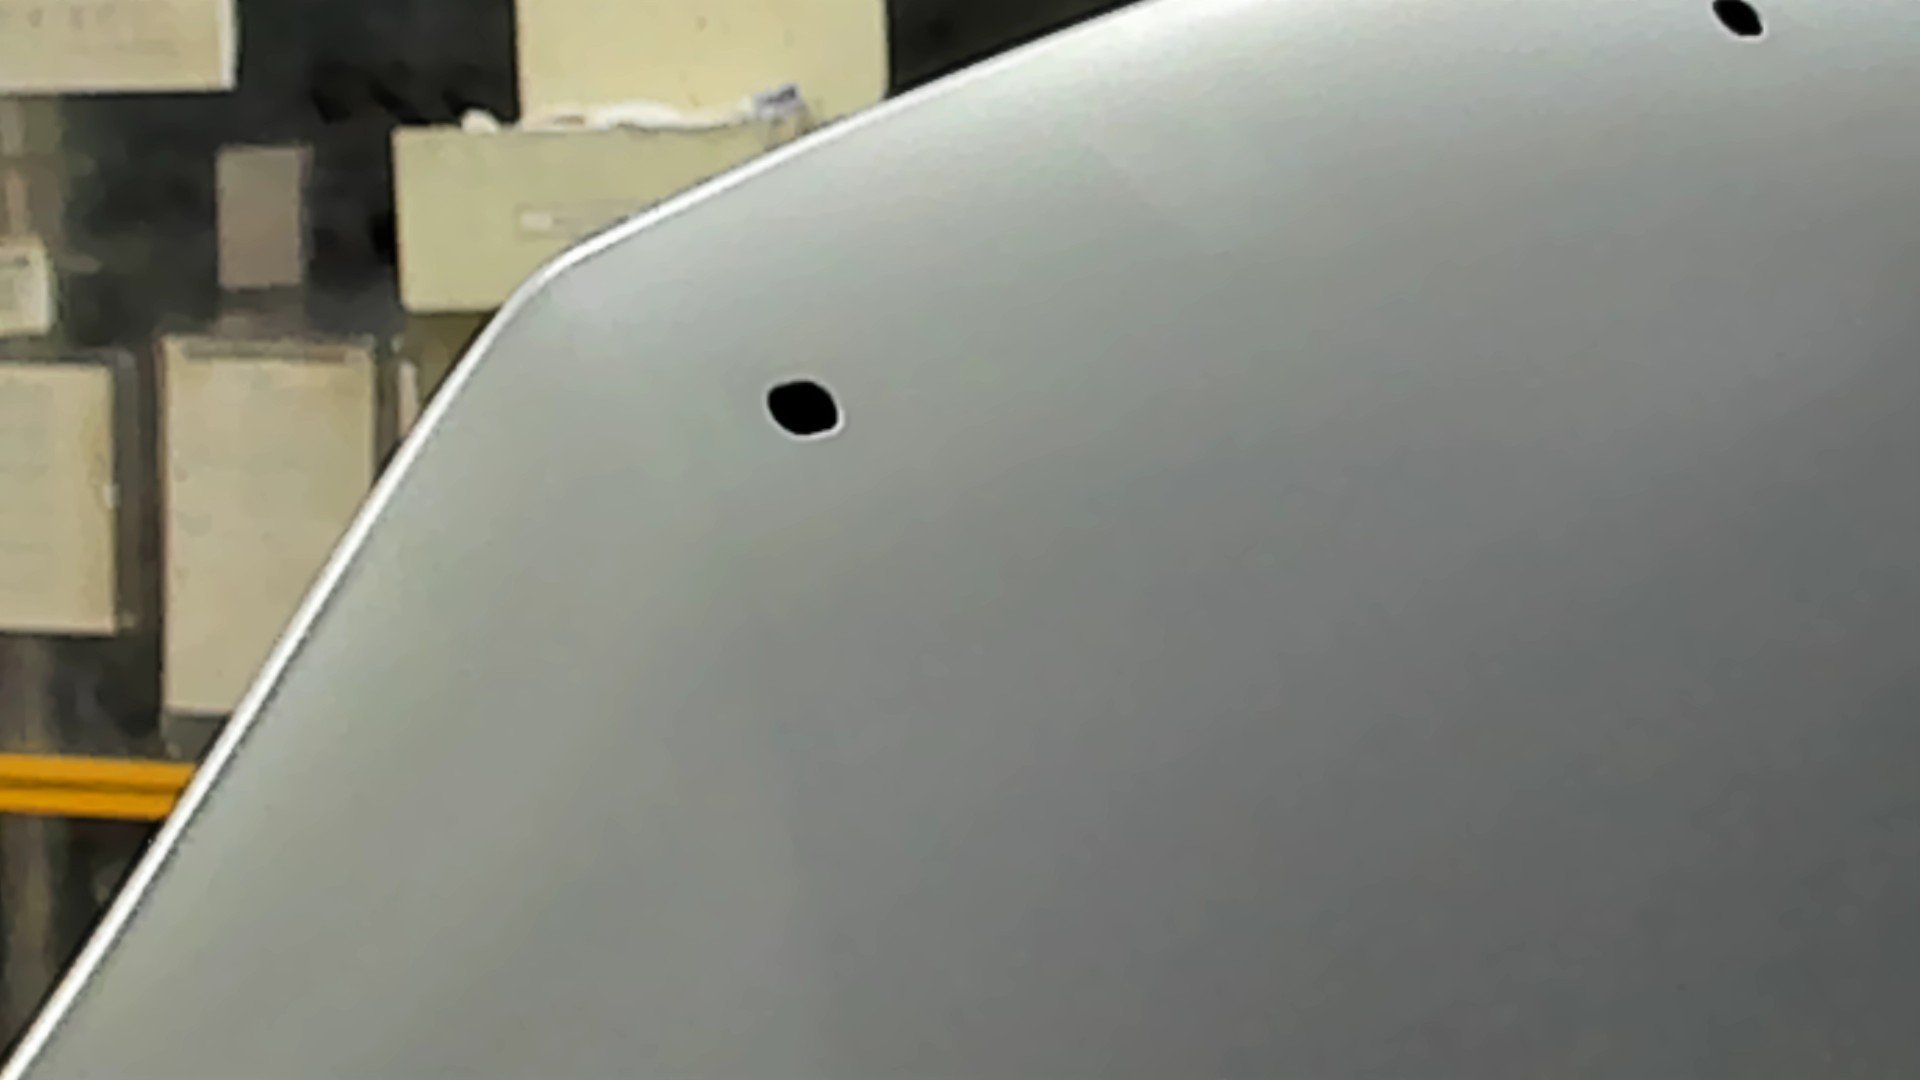amorfo: (760, 372, 843, 444), (1695, 1, 1785, 46)
